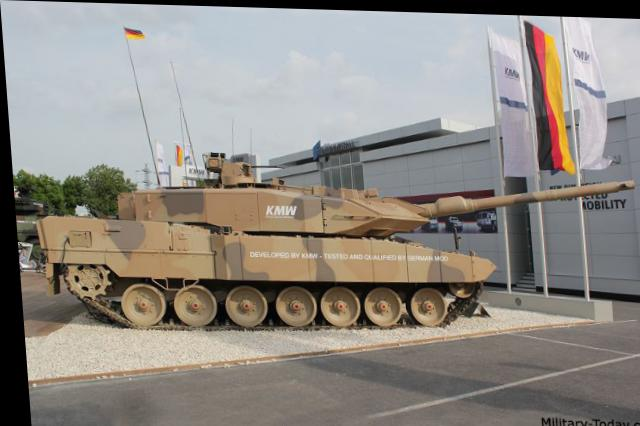tank: (22, 162, 487, 339)
